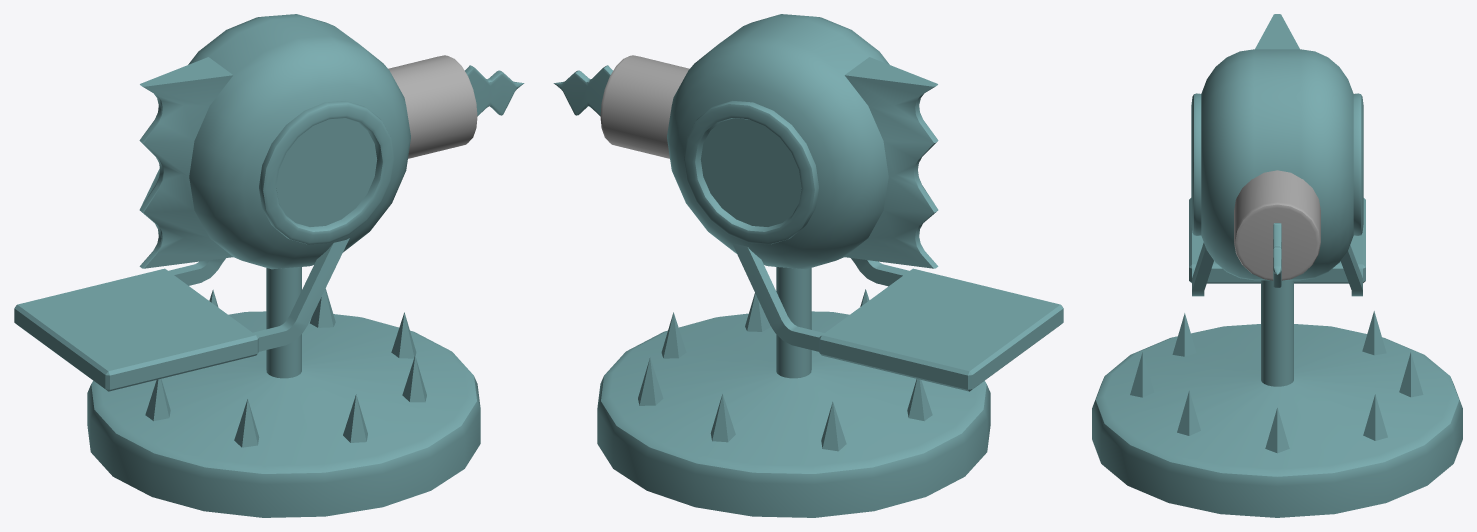
The model's file is FreezeRay_Seperated.fbx.
The picture shows the model from 3 angles, left to right: view 1: azimuth 30°, elevation 25°; view 2: azimuth 150°, elevation 25°; view 3: azimuth 270°, elevation 25°; orthographic projection. The views are drawn at different scales.
Parts seen in each view (by area): view 1: FreezeRay_Top, FreezeRay_Base; view 2: FreezeRay_Top, FreezeRay_Base; view 3: FreezeRay_Base, FreezeRay_Top.
Part boxes in pixels (<box>): FreezeRay_Top: <box>14,14,524,391</box>; FreezeRay_Base: <box>87,267,480,517</box>; FreezeRay_Top: <box>553,14,1063,391</box>; FreezeRay_Base: <box>597,267,990,517</box>; FreezeRay_Base: <box>1092,280,1462,517</box>; FreezeRay_Top: <box>1189,14,1365,296</box>.
Size of the model in its own units: 0.872 by 0.7274 by 0.6427.
